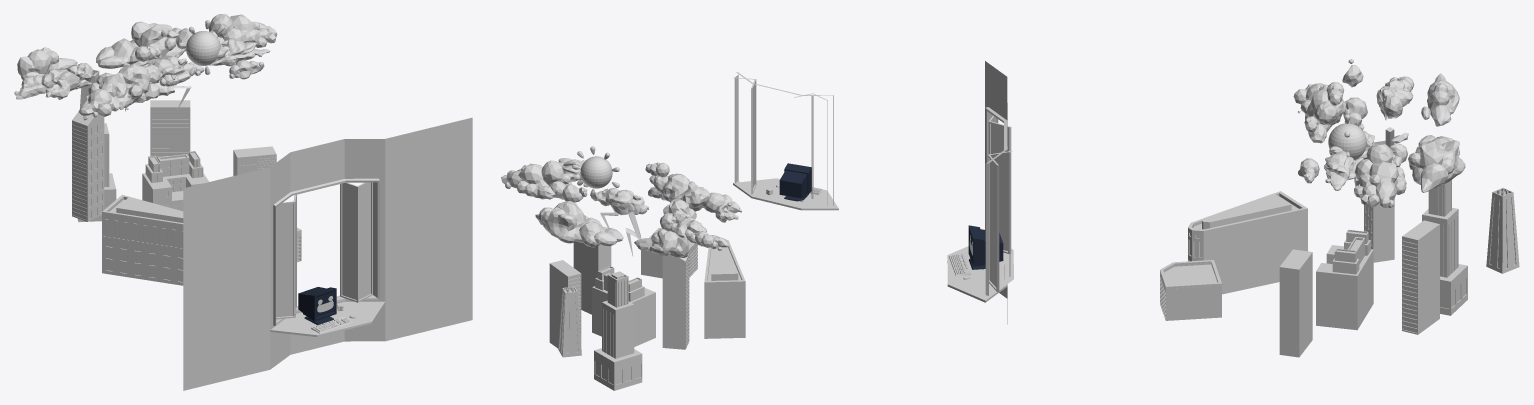
The model's file is models.glb.
3 views of the same model, side by side, from view 1: azimuth 30°, elevation 25°; view 2: azimuth 150°, elevation 25°; view 3: azimuth 270°, elevation 25° (orthographic). The views are drawn at different scales.
Parts seen in each view (by area): view 1: wall, building8, cloud12, glass_left, building7, cloud1, glass_right, table, building6, building2, cloud9, cloud11 (+16 smaller); view 2: building4, building8, building7, cloud1, cloud12, building6, cloud9, building3, building2, cloud11, wall, table (+15 smaller); view 3: building8, building6, building2, building3, wall, cloud9, cloud1, building4, building5, cloud12, building1, snow_roof8 (+17 smaller).
Part boxes in pixels (x1=…): wall: x1=183, y1=117, x2=472, y2=390; building8: x1=102, y1=198, x2=183, y2=285; cloud12: x1=78, y1=46, x2=178, y2=120; glass_left: x1=342, y1=182, x2=370, y2=299; building7: x1=72, y1=114, x2=104, y2=221; cloud1: x1=96, y1=21, x2=186, y2=68; glass_right: x1=276, y1=196, x2=294, y2=317; table: x1=270, y1=301, x2=385, y2=336; building6: x1=142, y1=152, x2=203, y2=211; building2: x1=150, y1=109, x2=190, y2=158; cloud9: x1=208, y1=14, x2=277, y2=47; cloud11: x1=14, y1=63, x2=93, y2=99; building4: x1=594, y1=275, x2=642, y2=390; building8: x1=704, y1=247, x2=745, y2=338; building7: x1=662, y1=255, x2=689, y2=349; cloud1: x1=535, y1=201, x2=623, y2=247; cloud12: x1=645, y1=162, x2=741, y2=213; building6: x1=592, y1=267, x2=655, y2=346; cloud9: x1=501, y1=160, x2=571, y2=199; building3: x1=573, y1=241, x2=611, y2=314; building2: x1=549, y1=265, x2=581, y2=348; cloud11: x1=660, y1=210, x2=729, y2=250; wall: x1=734, y1=72, x2=833, y2=206; table: x1=733, y1=178, x2=838, y2=210; building8: x1=1188, y1=195, x2=1307, y2=294; building6: x1=1316, y1=231, x2=1373, y2=330; building2: x1=1402, y1=226, x2=1439, y2=334; building3: x1=1279, y1=254, x2=1312, y2=357; wall: x1=985, y1=61, x2=1013, y2=324; cloud9: x1=1354, y1=144, x2=1406, y2=208; cloud1: x1=1408, y1=135, x2=1465, y2=192; building4: x1=1422, y1=180, x2=1467, y2=315; building5: x1=1160, y1=263, x2=1221, y2=320; cloud12: x1=1293, y1=82, x2=1345, y2=143; building1: x1=1486, y1=189, x2=1519, y2=273; snow_roof8: x1=1188, y1=191, x2=1307, y2=232.
Size of the model in its own units: 4.27 by 2.92 by 6.67.
